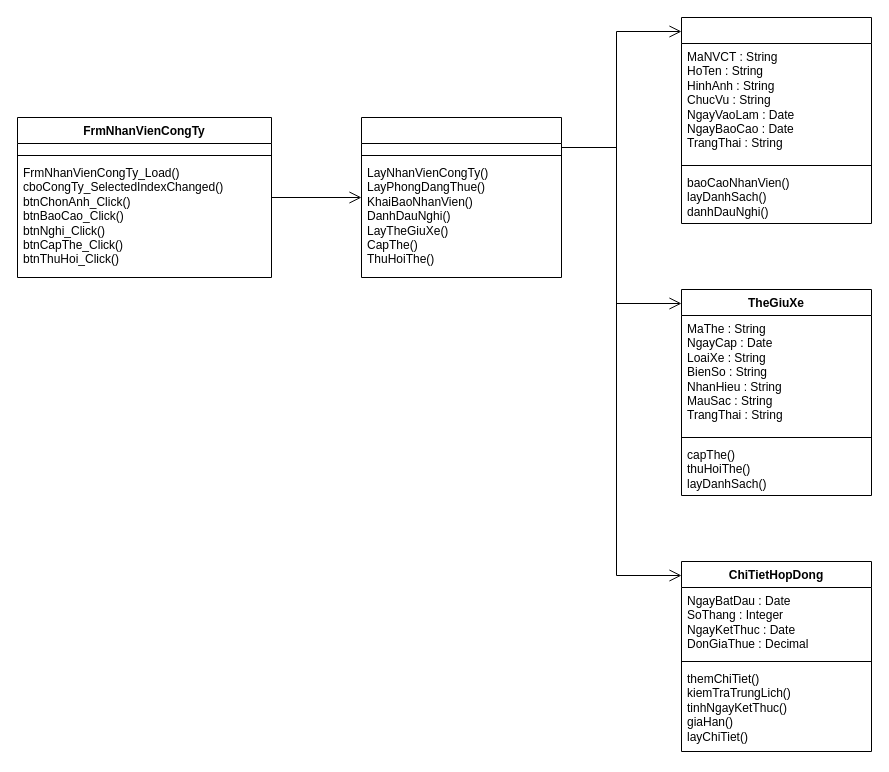
Some shapes in this 889 by 772 pixel diagram are drawn without their labels. Here are the shapes that lost their labels. From the top down, the box of each, then its label:
(680, 16, 872, 224): NhanVienCongTy
(360, 116, 562, 278): NhanVienCongTyService
